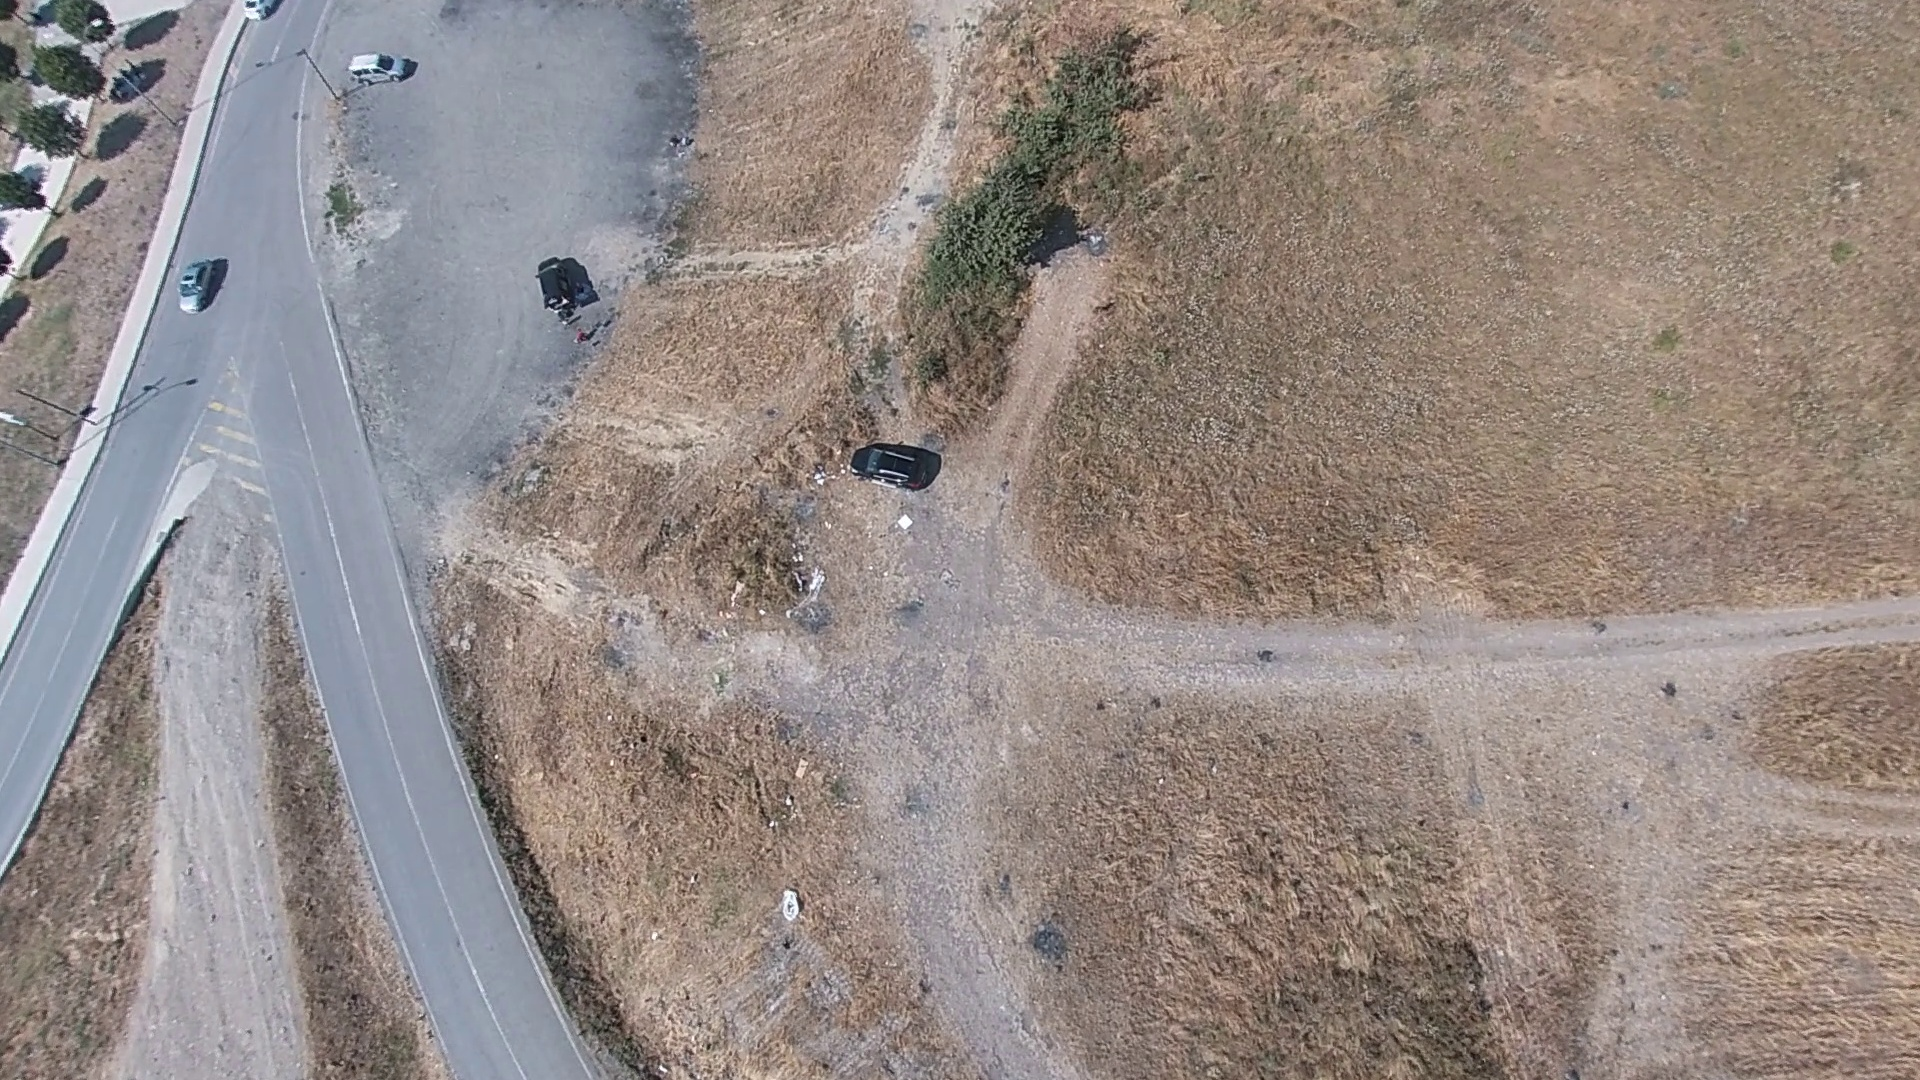arac: (171, 251, 222, 313)
